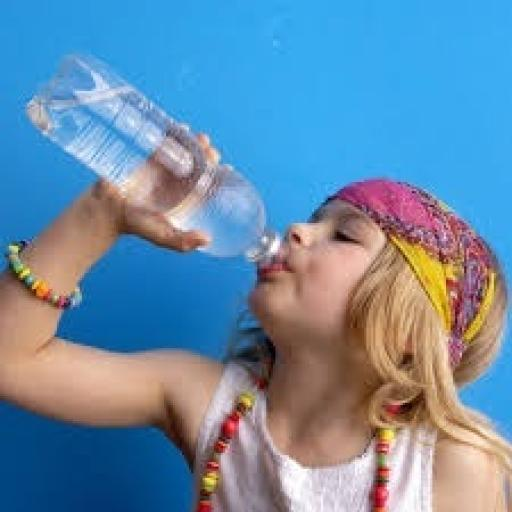drinking: (23, 50, 284, 266)
